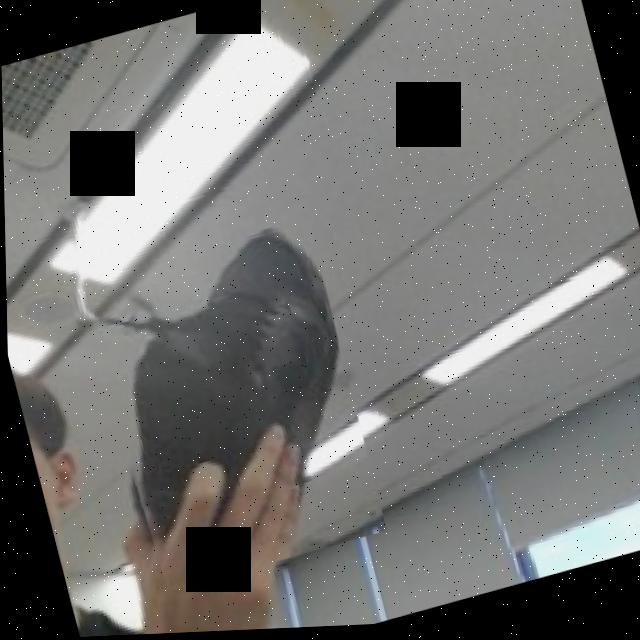shoe: (72, 217, 384, 598)
